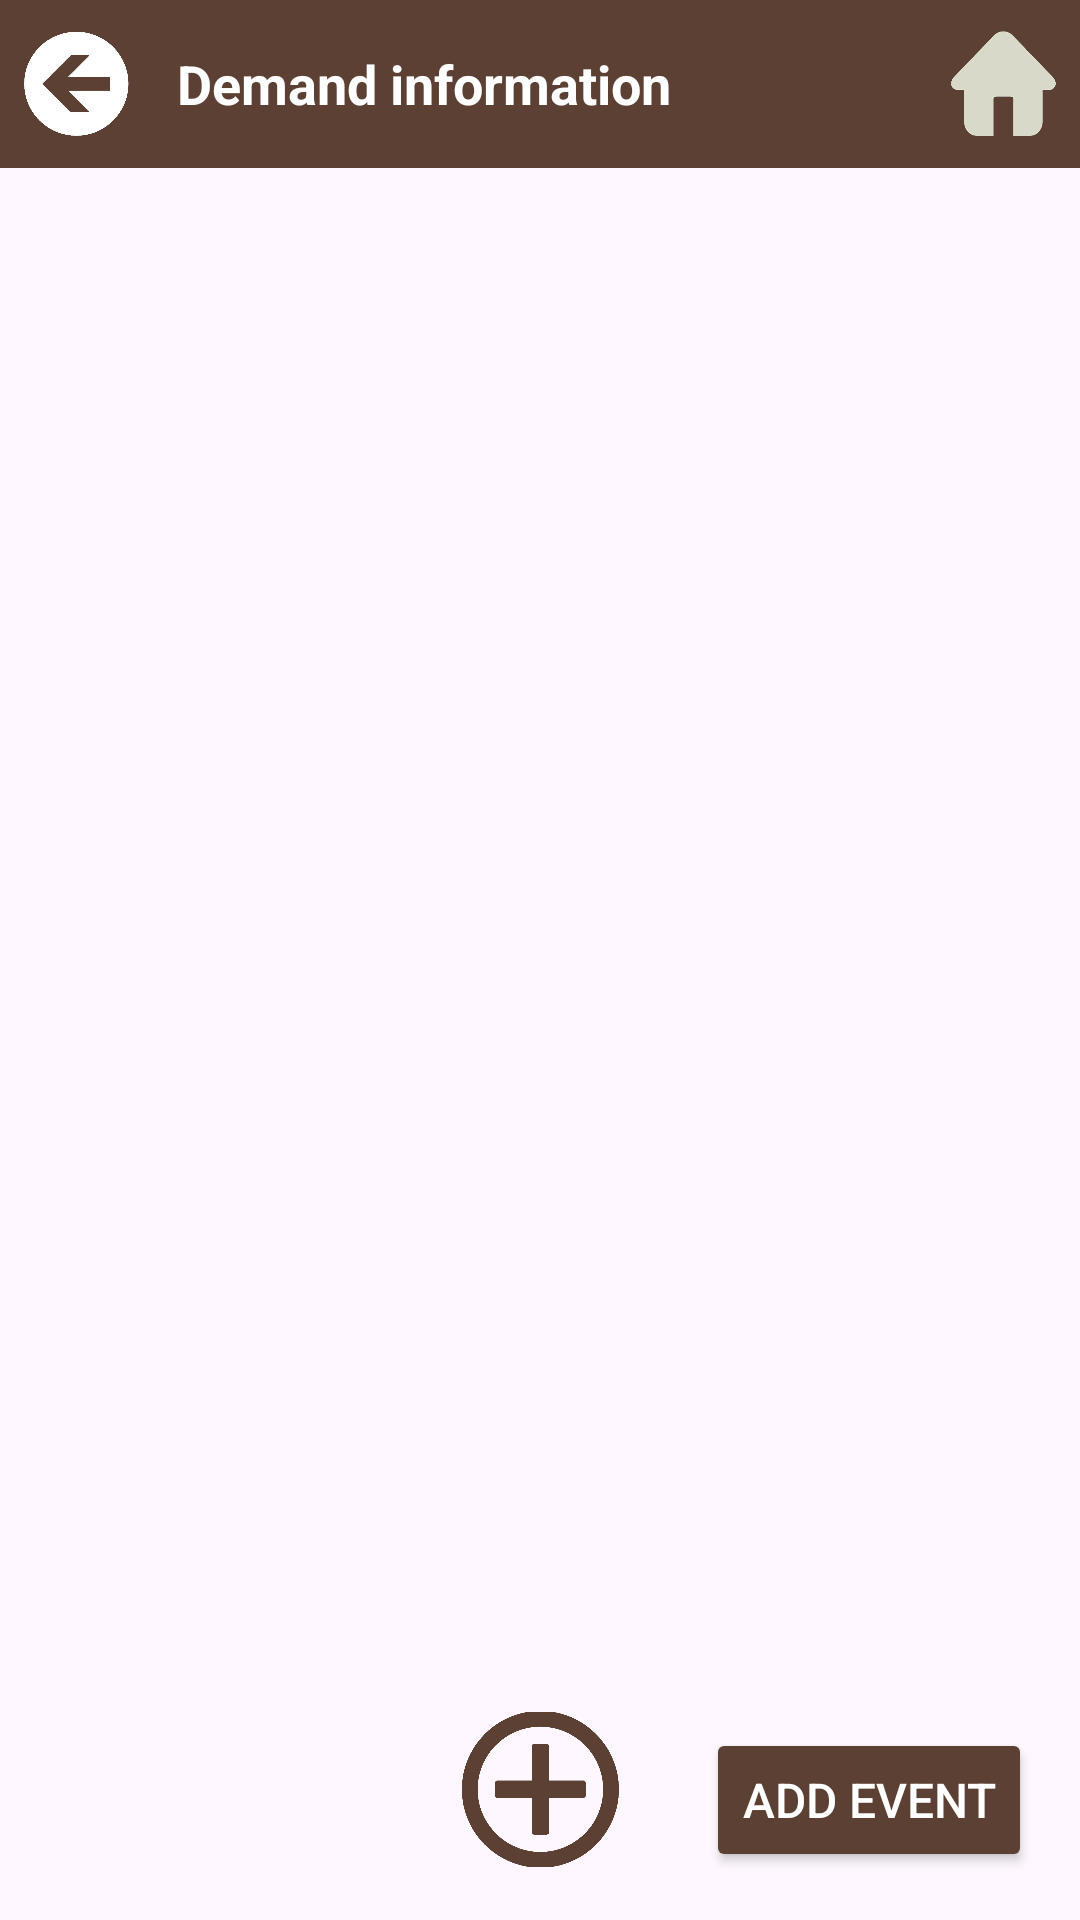

Icon bounding boxes for this 1080 x 1920 phone screenshot, format (x1, y1, x2, y2):
Back: (24, 32, 129, 136)
